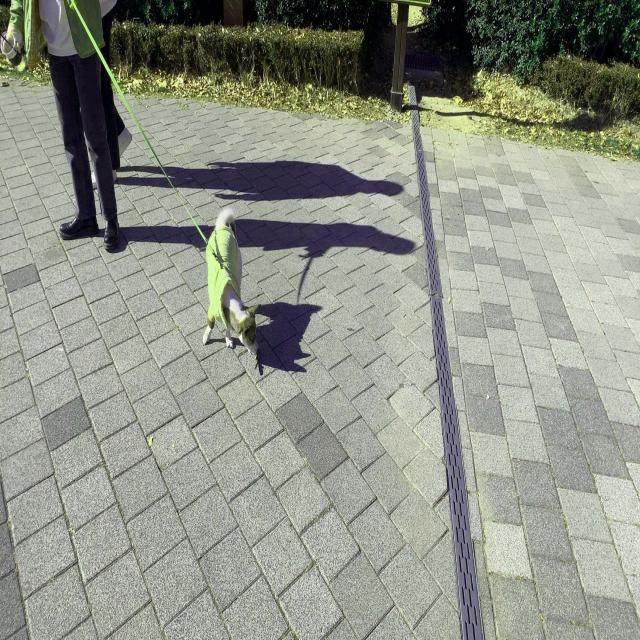Leashed_Dog: (80, 26, 262, 358)
